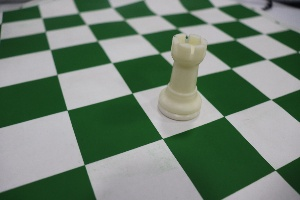white_rook: (156, 25, 210, 125)
